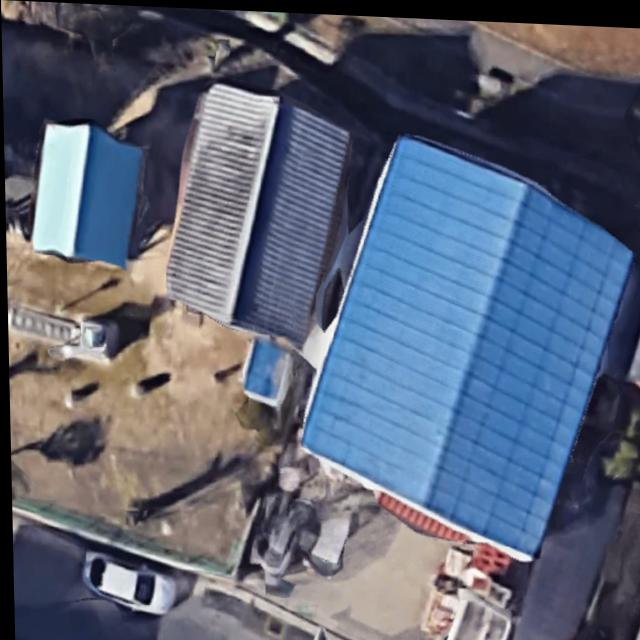Batiment: (299, 133, 630, 556), (165, 82, 349, 346), (30, 124, 140, 266)
